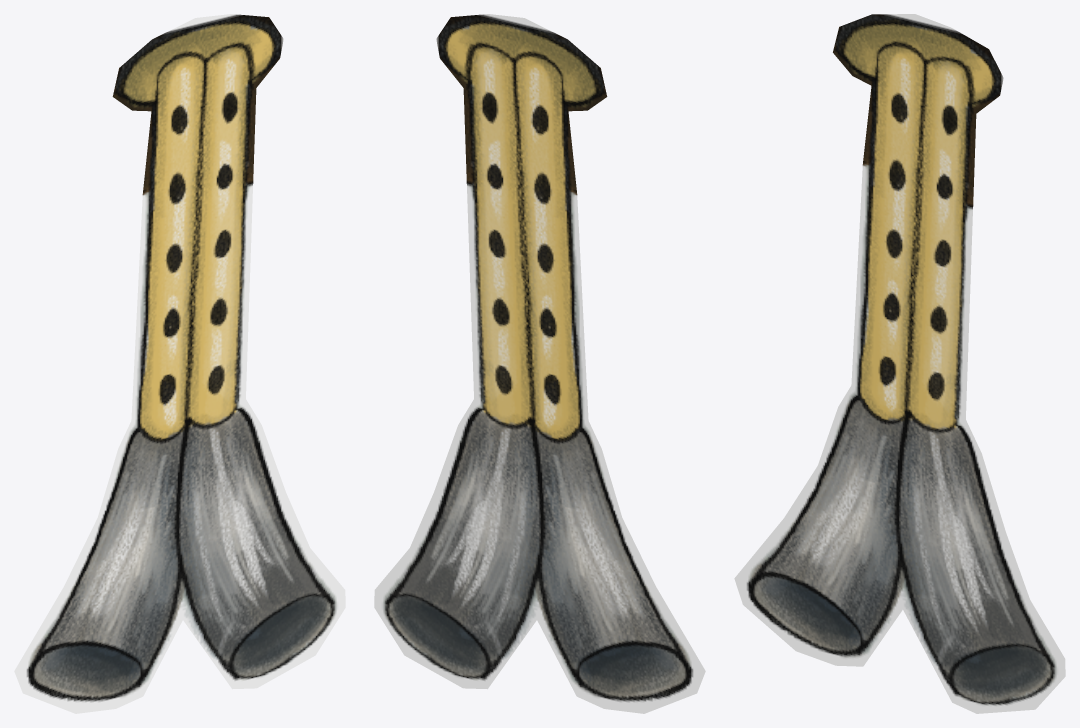
Rendered from pistala_2.glb.
3 views of the same model, side by side, from view 1: azimuth 30°, elevation 25°; view 2: azimuth 150°, elevation 25°; view 3: azimuth 330°, elevation 25° (orthographic).
Parts seen in each view (by area): view 1: Plane.021; view 2: Plane.021; view 3: Plane.021.
Boxes of the visible parts, box(x1,y1,x2,y2) form: Plane.021: box(14, 14, 345, 713); Plane.021: box(374, 14, 705, 713); Plane.021: box(734, 14, 1065, 713).
Size of the model in its own units: 4.95 by 9.77 by 0.
1 material, 1 textured.
